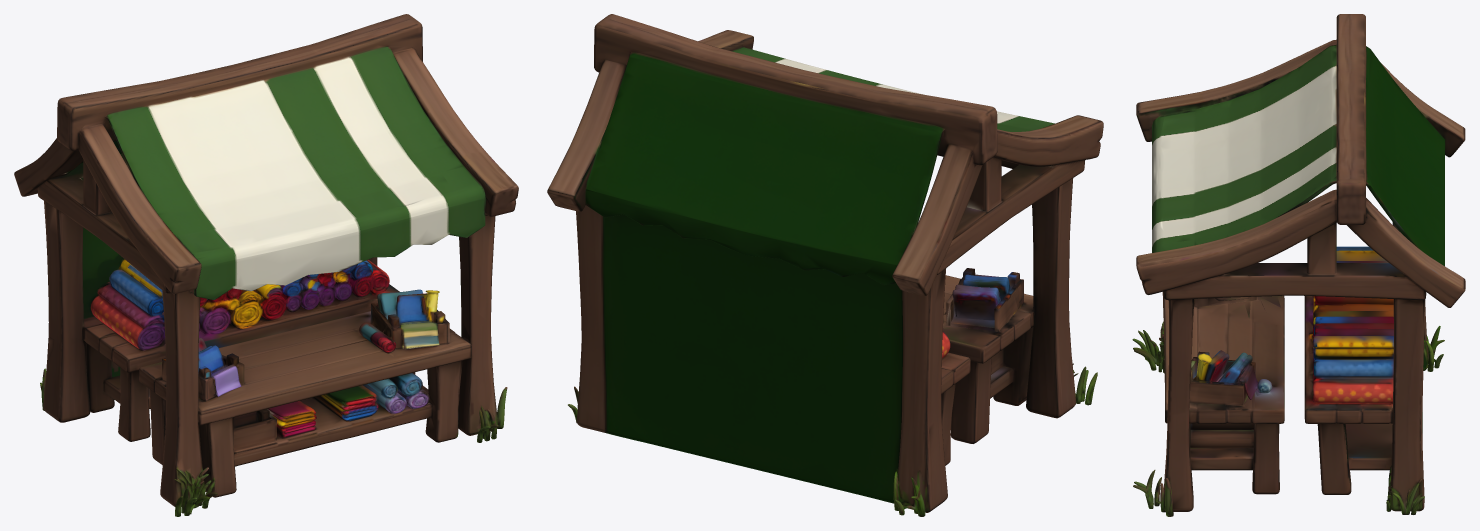
The model's file is market-stall-b.glb.
3 renders of one model, left to right at view 1: azimuth 30°, elevation 25°; view 2: azimuth 150°, elevation 25°; view 3: azimuth 270°, elevation 25°, orthographic. The views are drawn at different scales.
Parts seen in each view (by area): view 1: node_0; view 2: node_0; view 3: node_0.
Boxes of the visible parts, <box> form: node_0: <box>14,14,518,516</box>; node_0: <box>547,14,1103,516</box>; node_0: <box>1132,14,1465,516</box>.
Size of the model in its own units: 0.794 by 0.7336 by 0.6552.
1 material, 1 textured.
